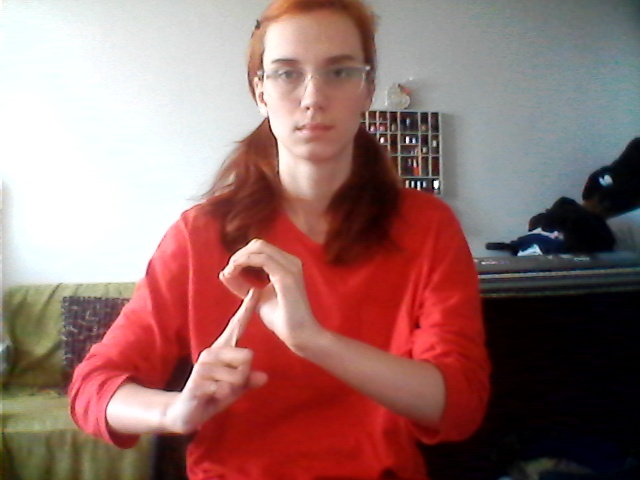q: (178, 232, 339, 445)
